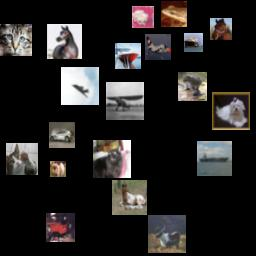airplane: (106, 82, 144, 120), (61, 67, 99, 105), (145, 34, 171, 60)
automobile: (49, 122, 75, 148)
cat: (93, 140, 131, 178), (0, 24, 32, 56), (6, 143, 38, 175), (178, 72, 207, 101)
deer: (148, 215, 186, 253)
dog: (212, 92, 250, 130), (132, 6, 154, 28), (50, 161, 66, 177)
frog: (161, 1, 187, 27)
ship: (197, 141, 232, 176), (115, 43, 141, 69), (184, 33, 203, 52)
truck: (46, 213, 75, 242)
